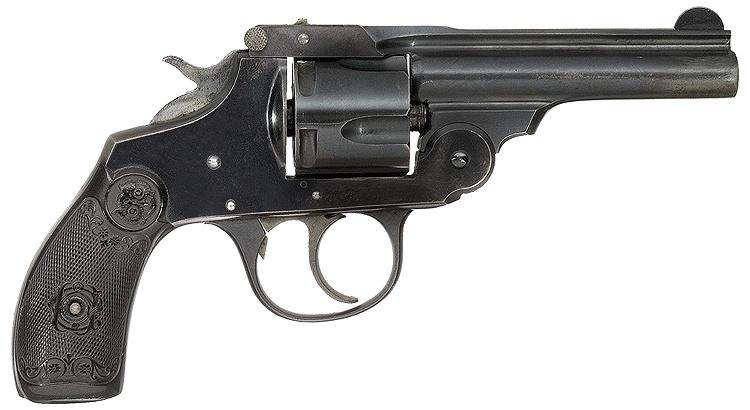gun: (4, 6, 746, 404)
